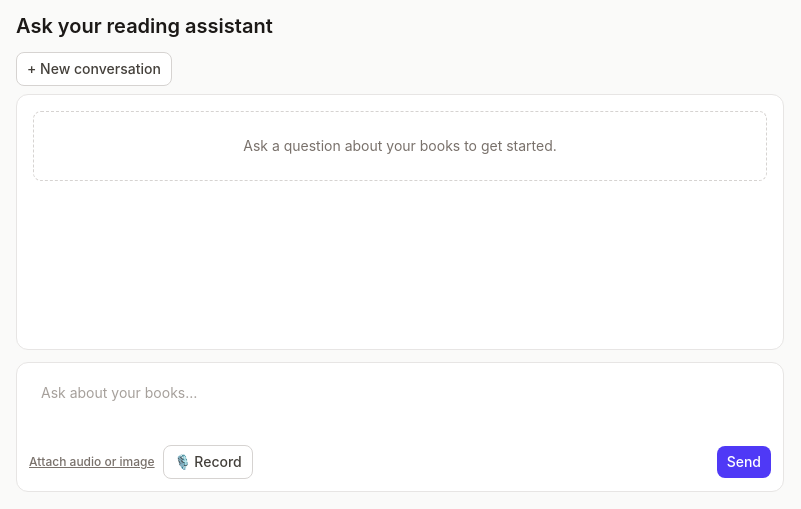
it: Chat › streams a turn: tool step, answer tokens, then the final answer
The image size is (801, 509).
Type "who narrates?" into the text box named "message" at (400, 403), box [29,375,771,431]
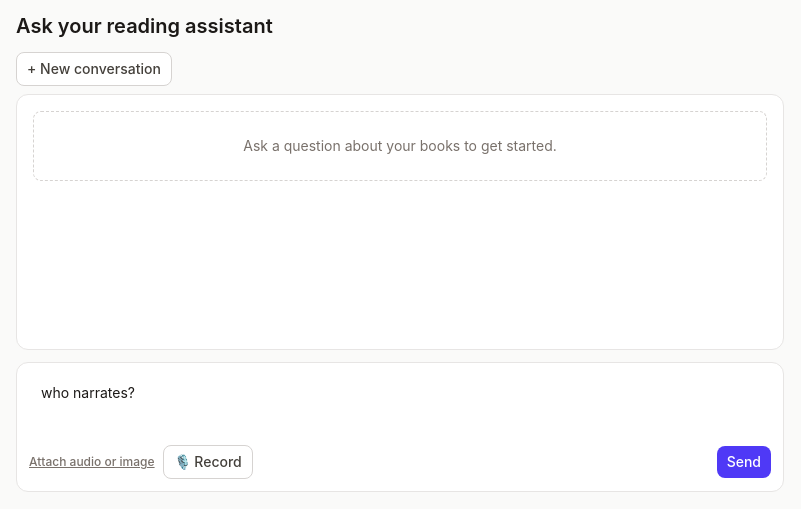
Click the button "Send" at (744, 462), box [717,446,771,478]
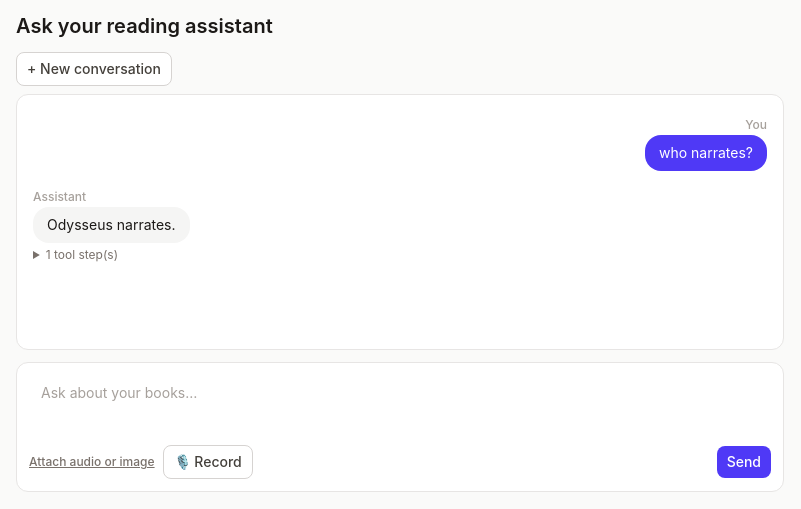
Expected: the text box "who narrates?" is shown, [29,375,771,431]
Expected: the text "Odysseus narrates." is shown, [47,216,176,233]
Expected: the heading "1 tool step(s)" is shown, [46,247,118,262]
